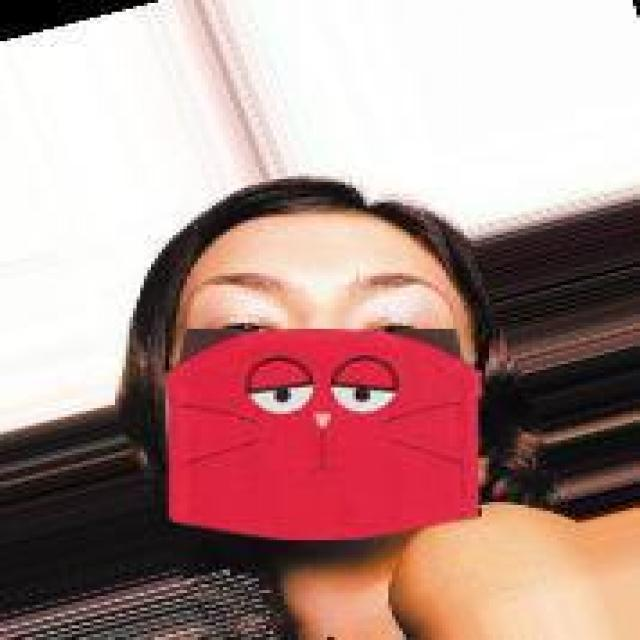mask: (108, 162, 640, 587)
